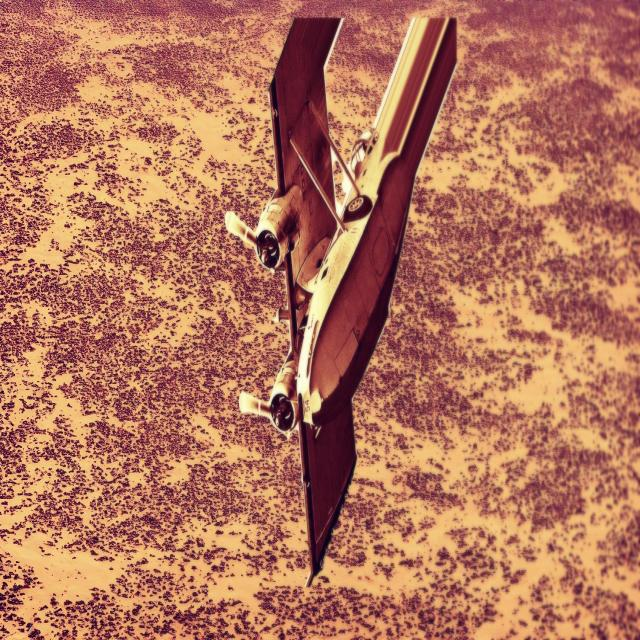airplane: (223, 13, 458, 588)
